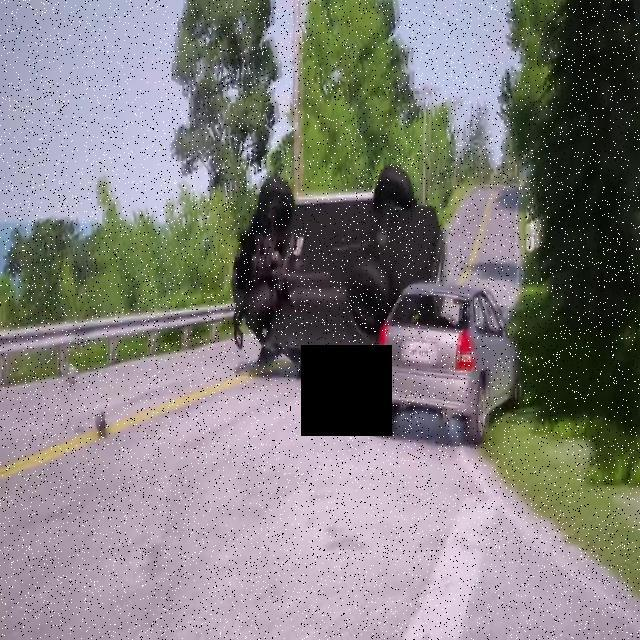severe: (229, 169, 523, 442)
